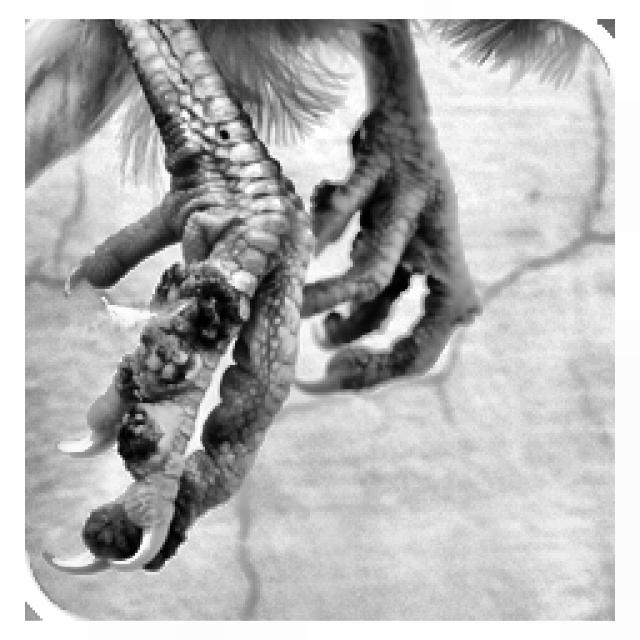Fowlpox: (80, 254, 242, 600), (300, 113, 420, 345)
